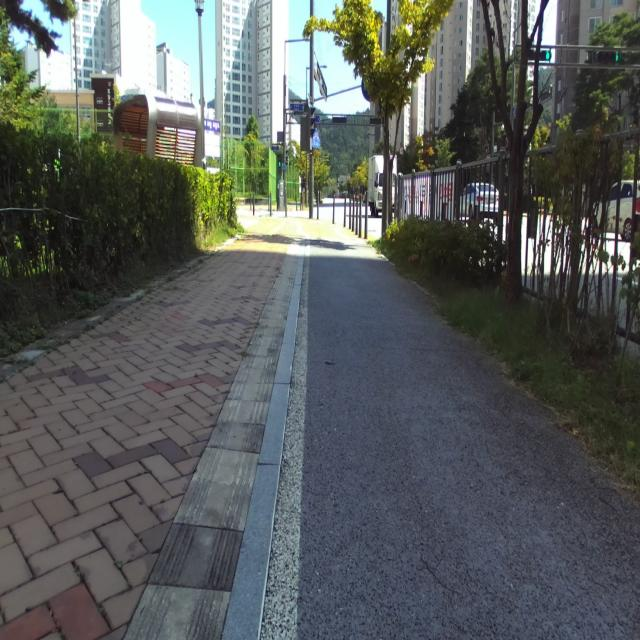초록불: (277, 151, 282, 177)
